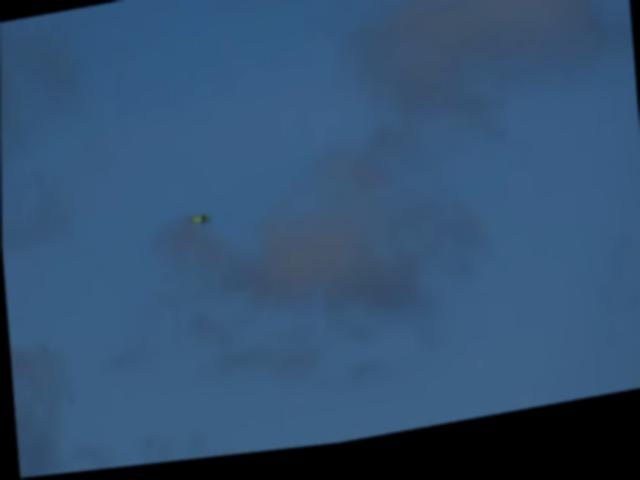plane: (188, 216, 209, 232)
